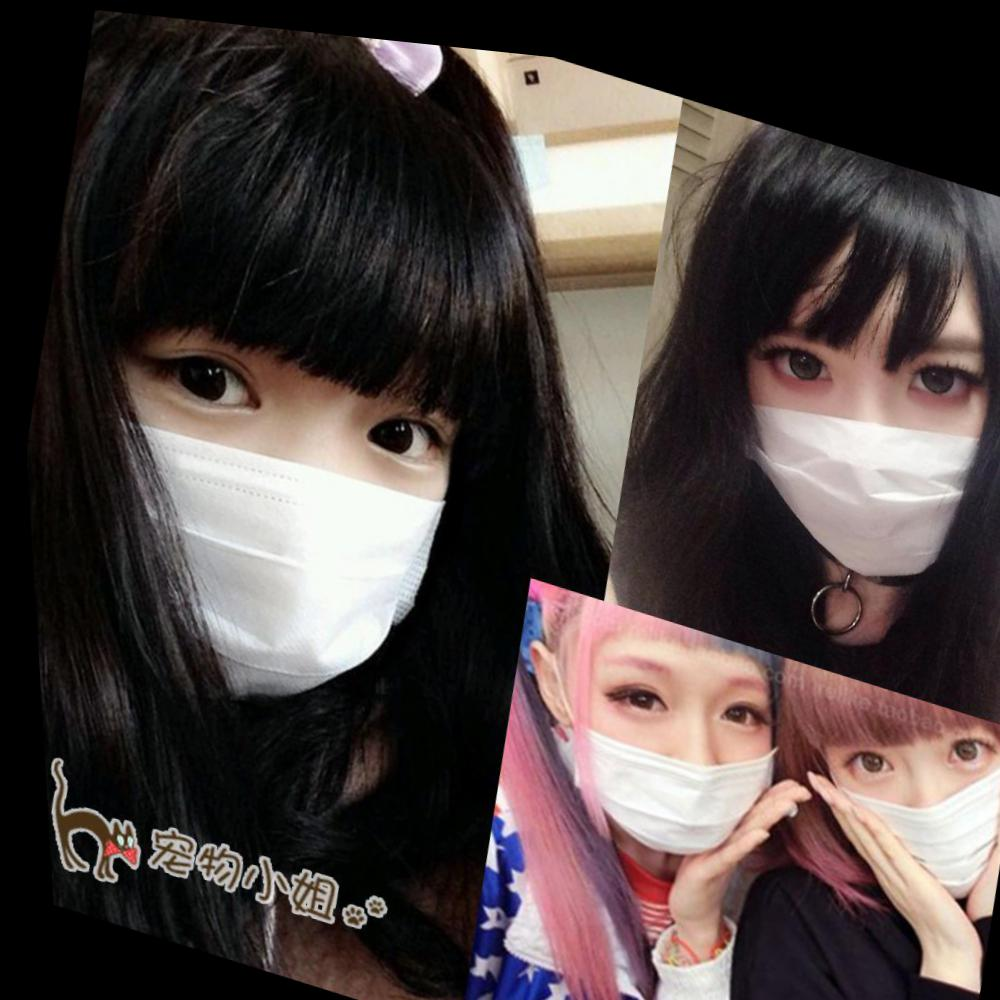OK: (10, 189, 578, 777), (693, 234, 1000, 598)
WRONG: (544, 595, 810, 870), (804, 653, 1000, 876)
